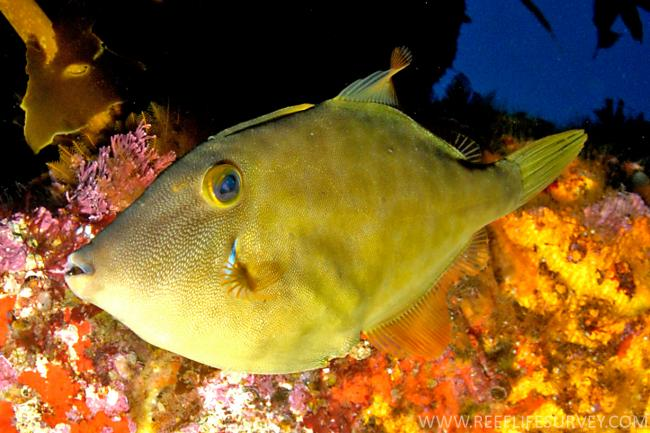fish: (64, 64, 587, 376)
